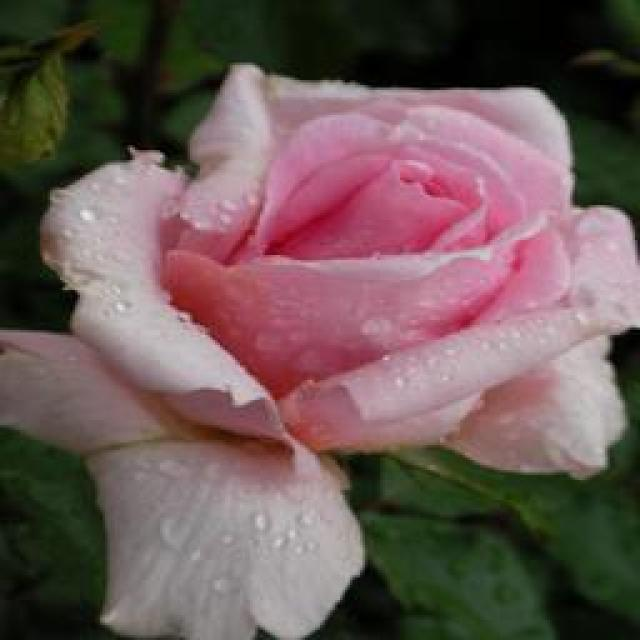rose: (10, 52, 640, 534)
